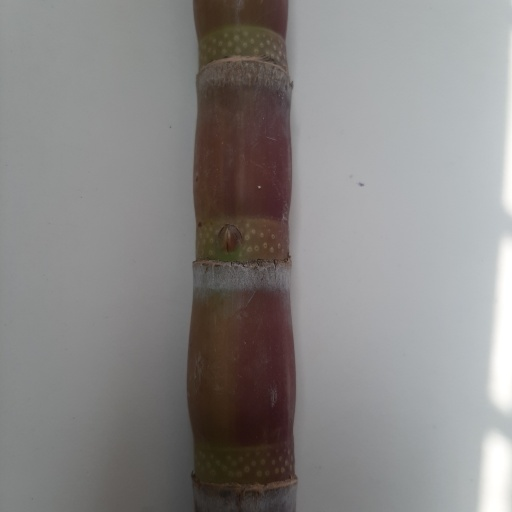Bud: (217, 224, 244, 256)
